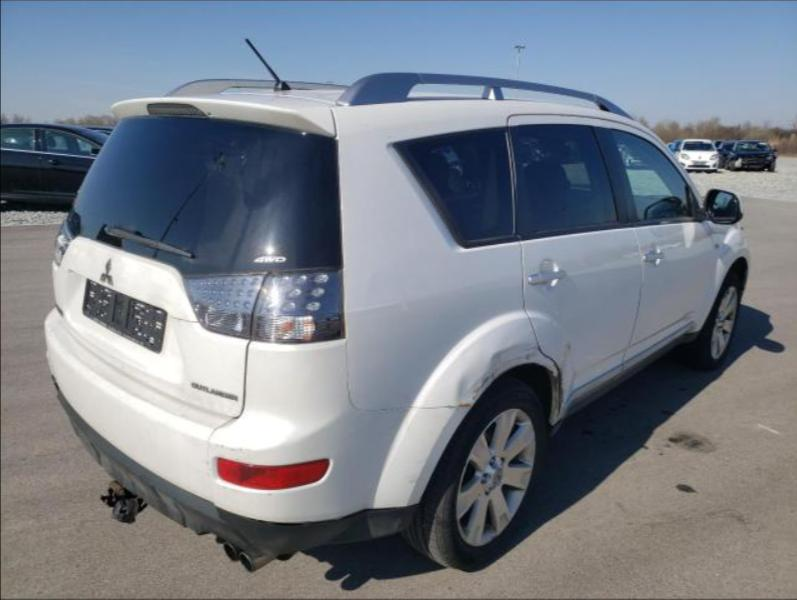Corrosion: (447, 404, 472, 410), (457, 402, 469, 409)
Dent: (458, 342, 539, 408), (546, 333, 583, 421)
Missing part: (85, 279, 164, 352)
Paint chip: (467, 347, 538, 401), (547, 368, 564, 421), (561, 339, 577, 356)
